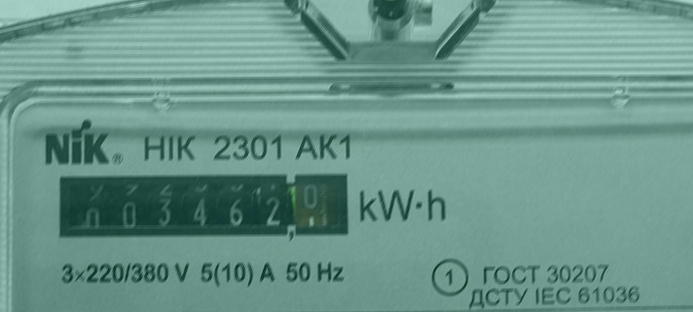0: (120, 199, 138, 228), (302, 182, 319, 211), (82, 205, 101, 228)
2: (264, 195, 282, 227)
3: (155, 197, 173, 229)
4: (192, 195, 209, 227)
6: (226, 195, 246, 229)
9: (85, 183, 105, 202)
screen: (47, 162, 360, 256)
